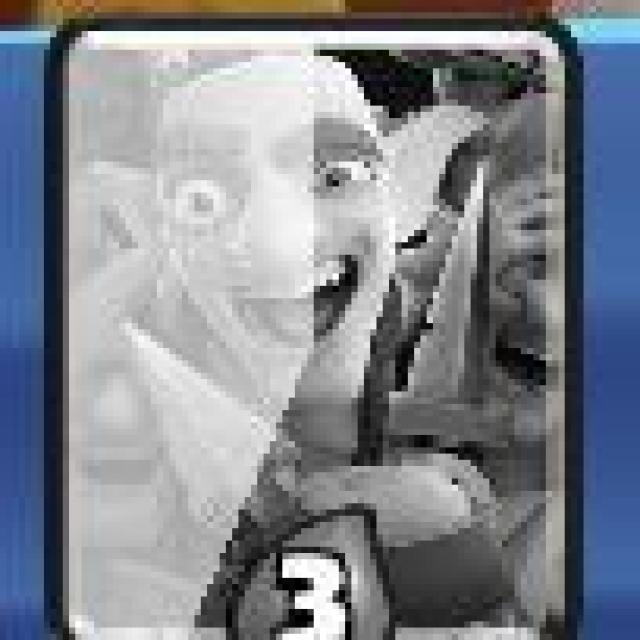Goblin_Gang: (43, 17, 586, 640)
